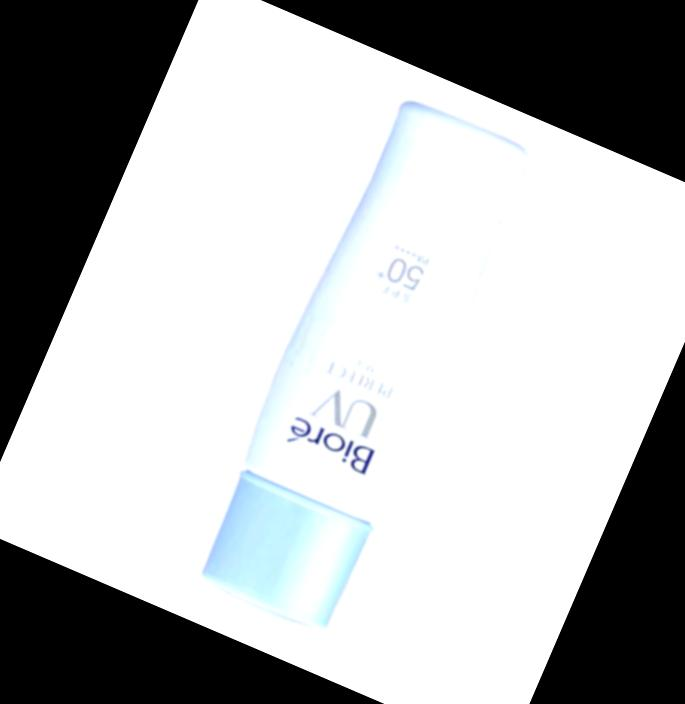cosmetic: (192, 96, 536, 631)
